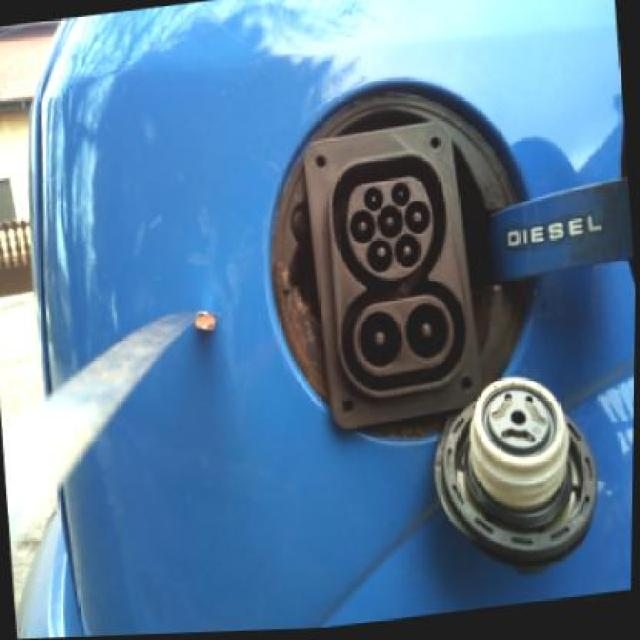CCS2: (300, 133, 486, 423)
